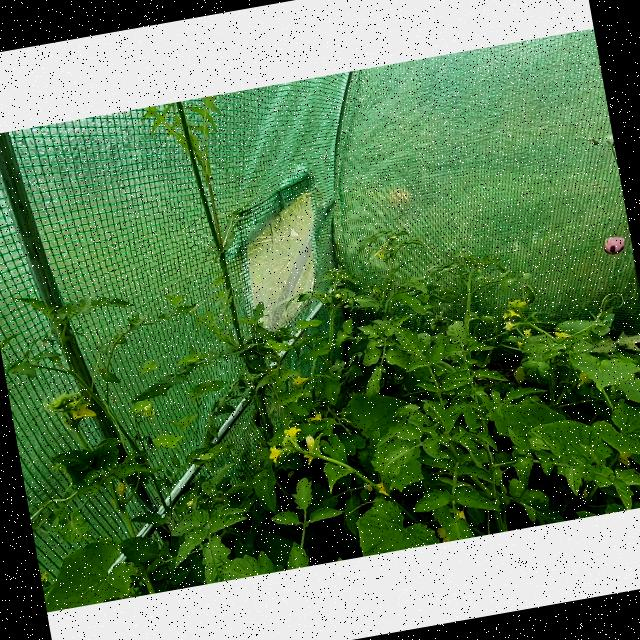Flowers: (59, 394, 95, 422), (300, 434, 322, 465), (372, 478, 391, 498), (264, 445, 280, 464), (288, 373, 310, 386), (283, 426, 303, 440), (500, 318, 516, 332), (508, 298, 526, 310), (114, 481, 128, 494), (306, 414, 324, 422), (556, 331, 571, 339), (376, 250, 384, 260)
